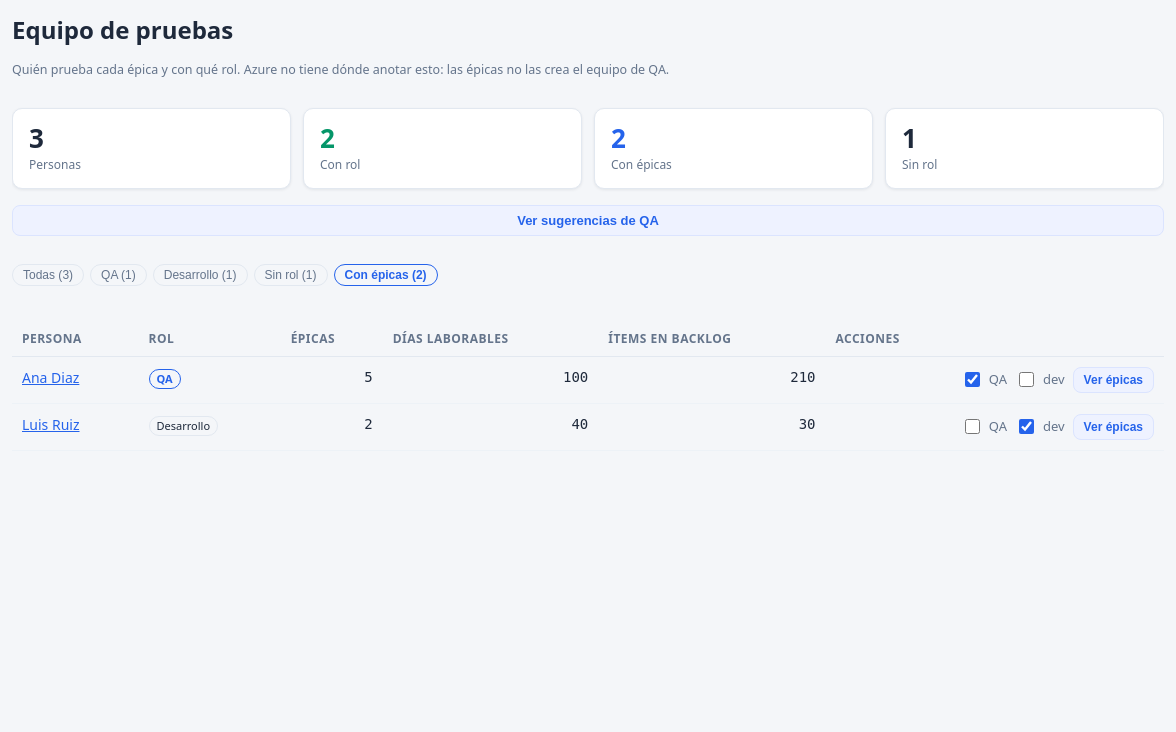
it: las épicas de una persona › lista sus asignaciones con rol y días
Expected: the button "Ana Diaz" is shown, [22,367,79,388]
Click the button "Ver épicas" in the row of "100": (1113, 380) [1073,367,1154,393]
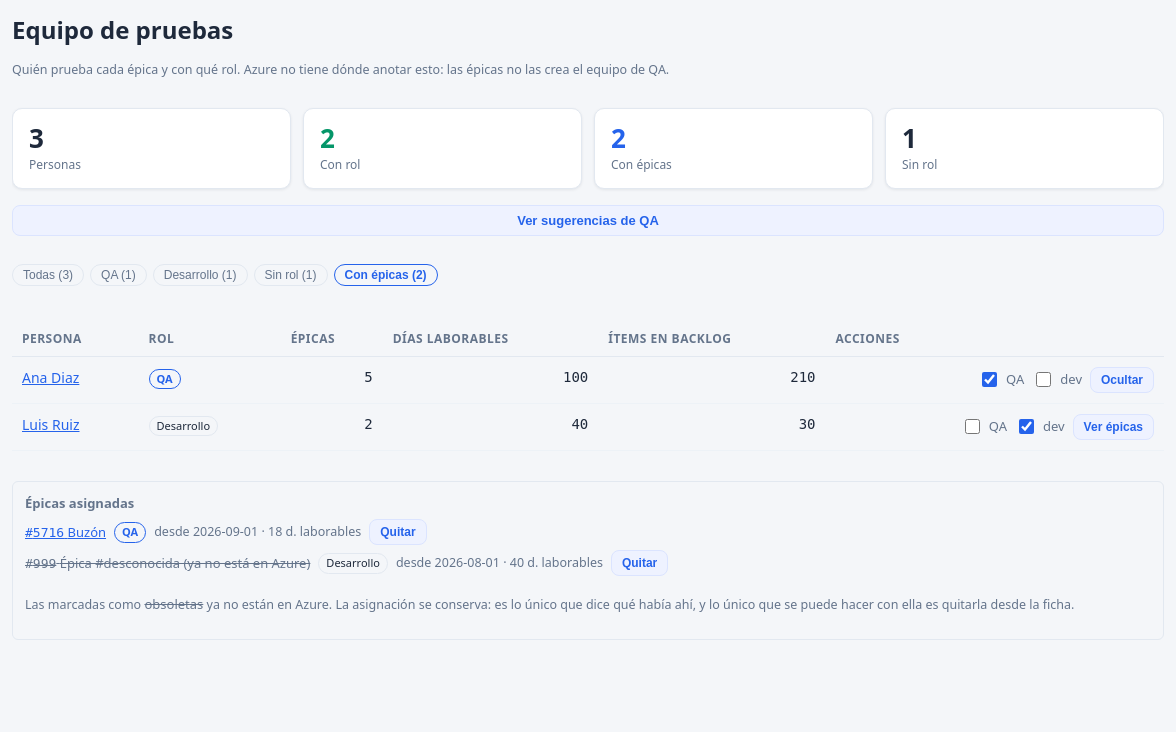
Now the element "Épicas asignadas" shows "Buzón", box [25,523,106,542]
Now the element "Épicas asignadas" shows "18 d. laborables", box [258,523,361,540]
